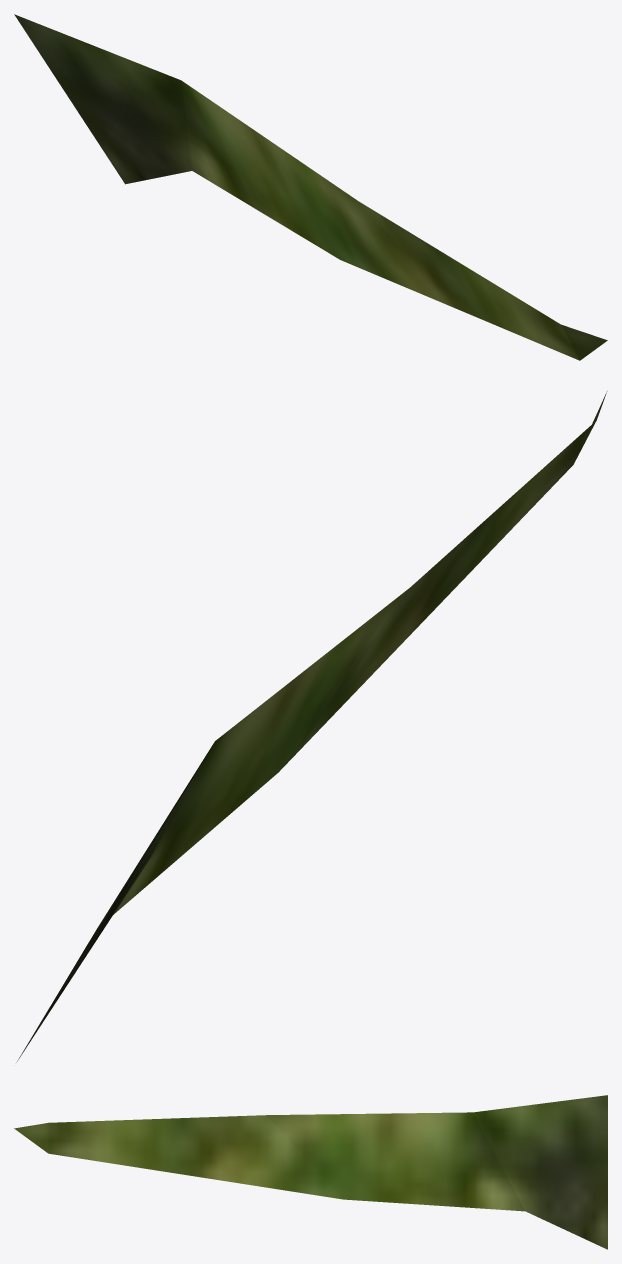
The picture shows the model from 3 angles, top to bottom: view 1: azimuth 30°, elevation 25°; view 2: azimuth 150°, elevation 25°; view 3: azimuth 270°, elevation 25°; orthographic projection. The views are drawn at different scales.
Size of the model in its own units: 0.0945 by 0.1603 by 0.7108.
Materials: 1 (1 with a texture image).
